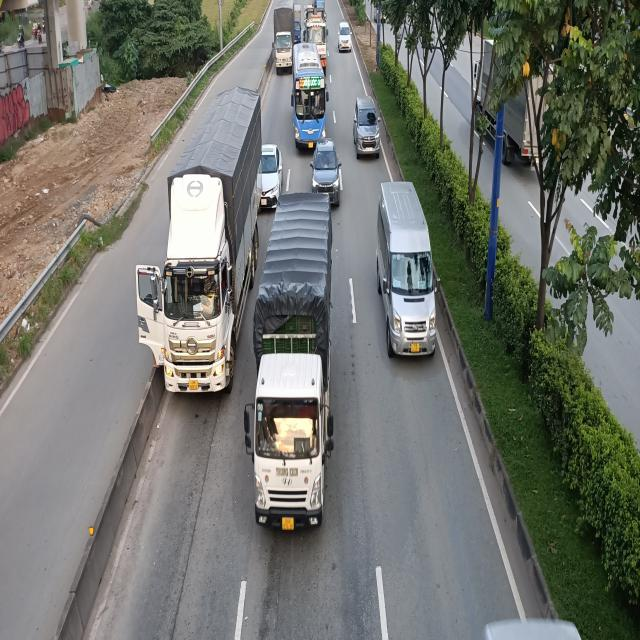car: (311, 137, 341, 198), (353, 96, 381, 158), (261, 144, 283, 210), (338, 23, 353, 53)
coach: (290, 46, 328, 153)
truck: (150, 84, 262, 395), (246, 191, 332, 529), (274, 0, 295, 76), (308, 9, 329, 71)
van: (378, 183, 442, 362)
